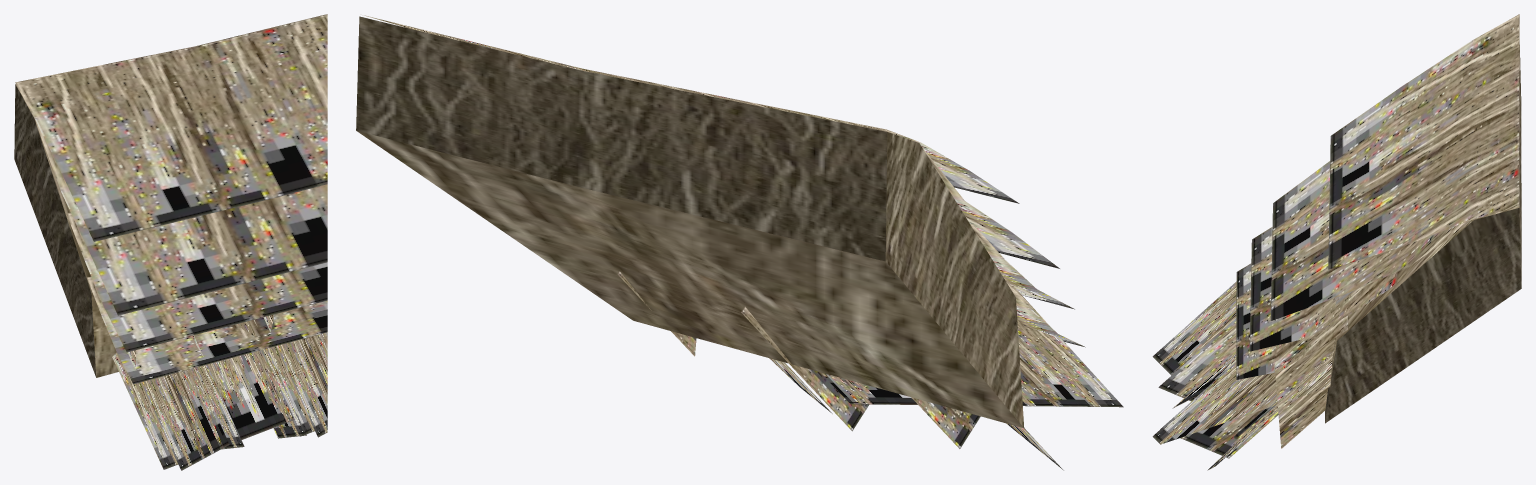
The model's file is roof.twig.corner.60.concave.r.top.line.glb.
3 renders of one model, left to right at view 1: azimuth 30°, elevation 25°; view 2: azimuth 150°, elevation 25°; view 3: azimuth 270°, elevation 25°, orthographic. The views are drawn at different scales.
Visible parts, largest first — view 1: model; view 2: model; view 3: model.
Part boxes in pixels (<box>): model: <box>14,14,327,470</box>; model: <box>356,15,1123,470</box>; model: <box>1152,14,1521,470</box>.
Size of the model in its own units: 1.74 by 1.6 by 1.48.
Materials: 1 (1 with a texture image).
